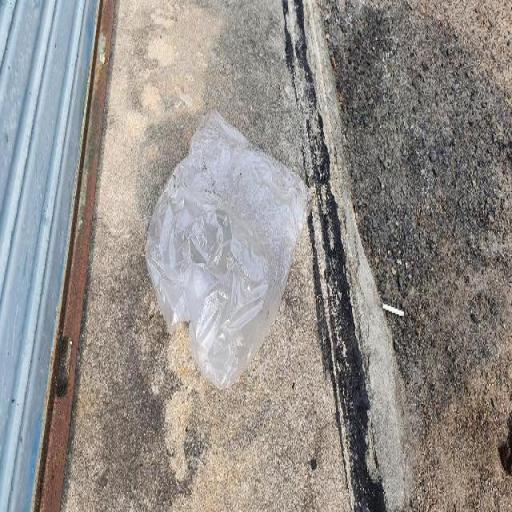plastic-bag: (140, 108, 306, 392)
